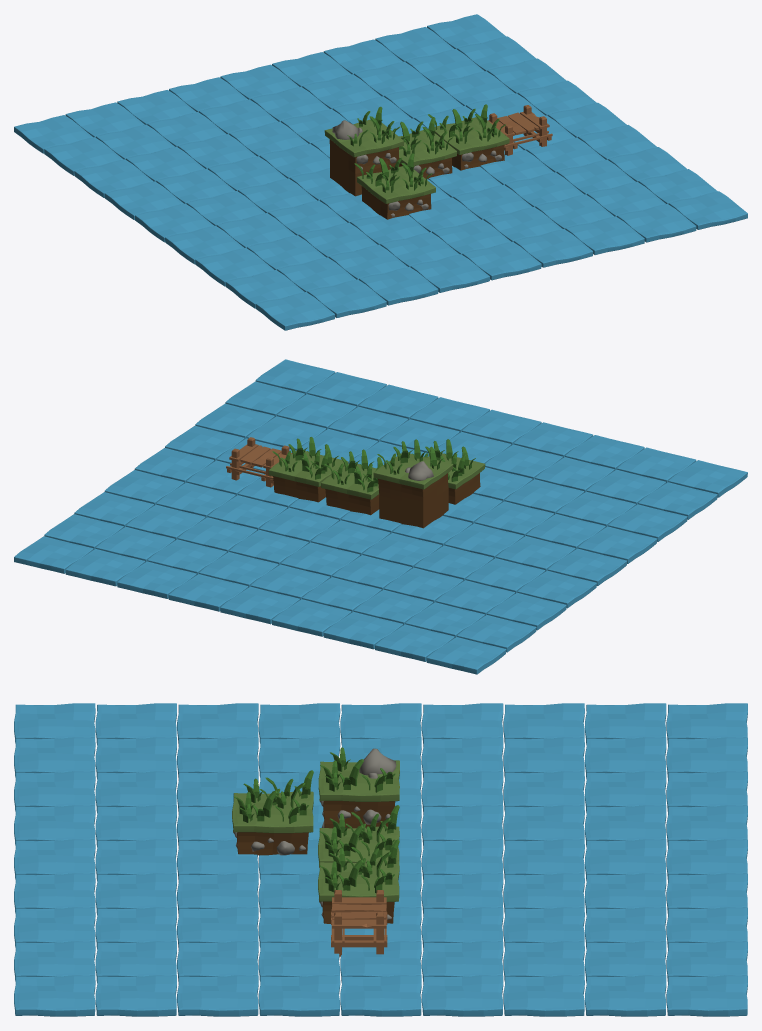
File: 3D_iso_game_tiles.glb
The picture shows the model from 3 angles, top to bottom: view 1: azimuth 30°, elevation 25°; view 2: azimuth 150°, elevation 25°; view 3: azimuth 270°, elevation 25°; orthographic projection. The views are drawn at different scales.
Parts seen in each view (by area): view 1: ground.002, ground.001, ground, ground.004, ground.003; view 2: ground.002, ground.001, ground.004, ground.003, ground; view 3: ground.002, ground, ground.001, ground.004, ground.003, rock.027.
Part boxes in pixels (bbox=[...]): ground.002: bbox=[14, 14, 747, 330]; ground.001: bbox=[324, 119, 403, 196]; ground: bbox=[356, 166, 435, 219]; ground.004: bbox=[434, 117, 509, 170]; ground.003: bbox=[399, 130, 456, 179]; ground.002: bbox=[14, 359, 747, 674]; ground.001: bbox=[373, 453, 453, 528]; ground.004: bbox=[268, 450, 348, 502]; ground.003: bbox=[321, 463, 379, 515]; ground: bbox=[427, 453, 485, 504]; ground.002: bbox=[14, 703, 747, 1016]; ground: bbox=[232, 791, 313, 855]; ground.001: bbox=[318, 760, 399, 828]; ground.004: bbox=[318, 861, 399, 923]; ground.003: bbox=[318, 826, 399, 866]; rock.027: bbox=[359, 748, 396, 775].
Size of the model in its own units: 20.94 by 2.97 by 21.23.
